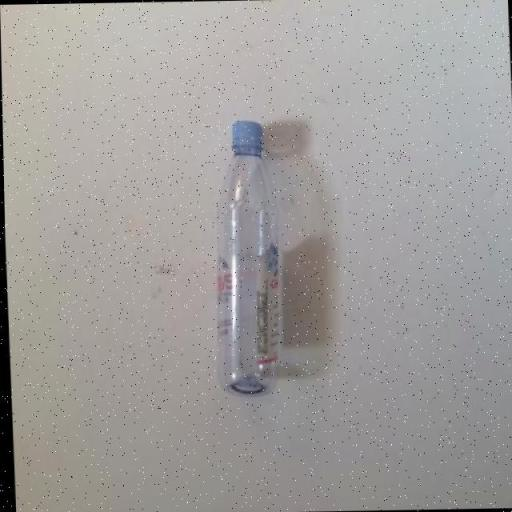plastic: (216, 120, 279, 393)
